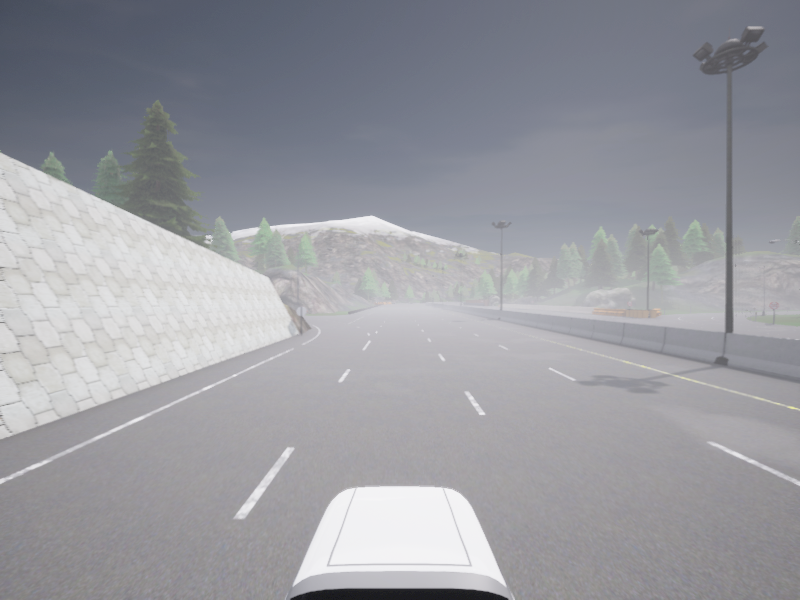vehicle: (284, 486, 514, 599)
